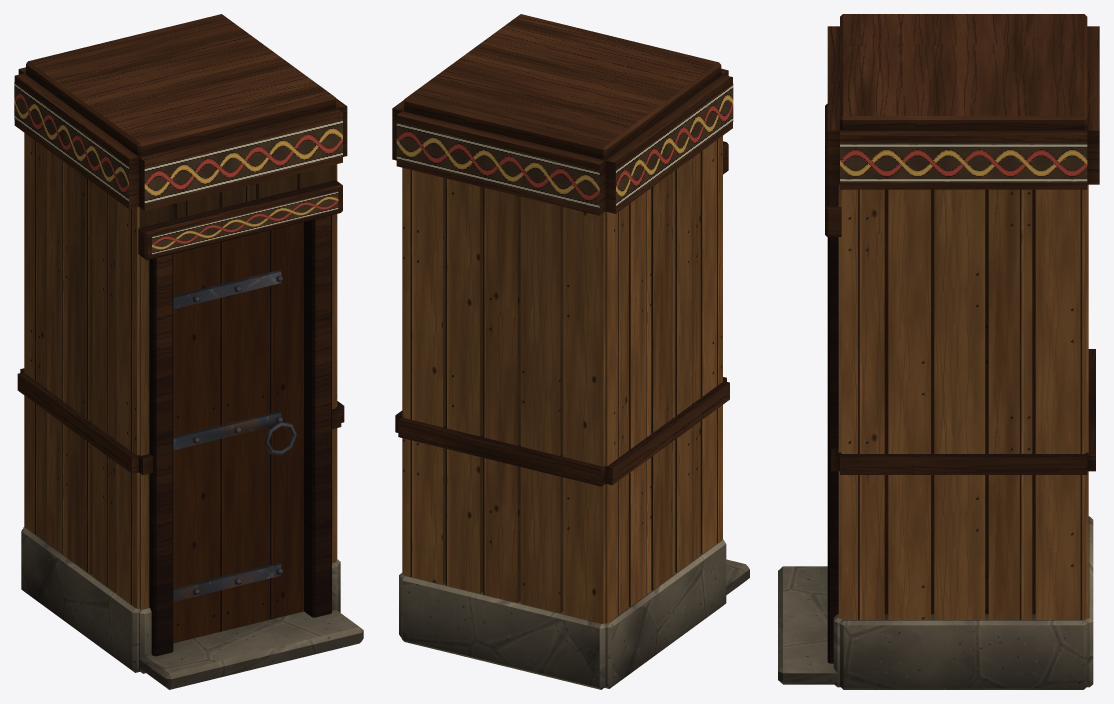
The model's file is interior_wall_timber_door.glb.
3 renders of one model, left to right at view 1: azimuth 30°, elevation 25°; view 2: azimuth 150°, elevation 25°; view 3: azimuth 270°, elevation 25°, orthographic. The views are drawn at different scales.
Visible parts, largest first — view 1: interior_wall_timber_door; view 2: interior_wall_timber_door; view 3: interior_wall_timber_door.
Part boxes in pixels (left/top/right/bottom): interior_wall_timber_door: left=14, top=14, right=363, bottom=689; interior_wall_timber_door: left=392, top=14, right=749, bottom=689; interior_wall_timber_door: left=778, top=14, right=1099, bottom=689.
Bounding box in the file's own units: 1.1 × 2.55 × 1.3.
5 materials, 5 textured.
